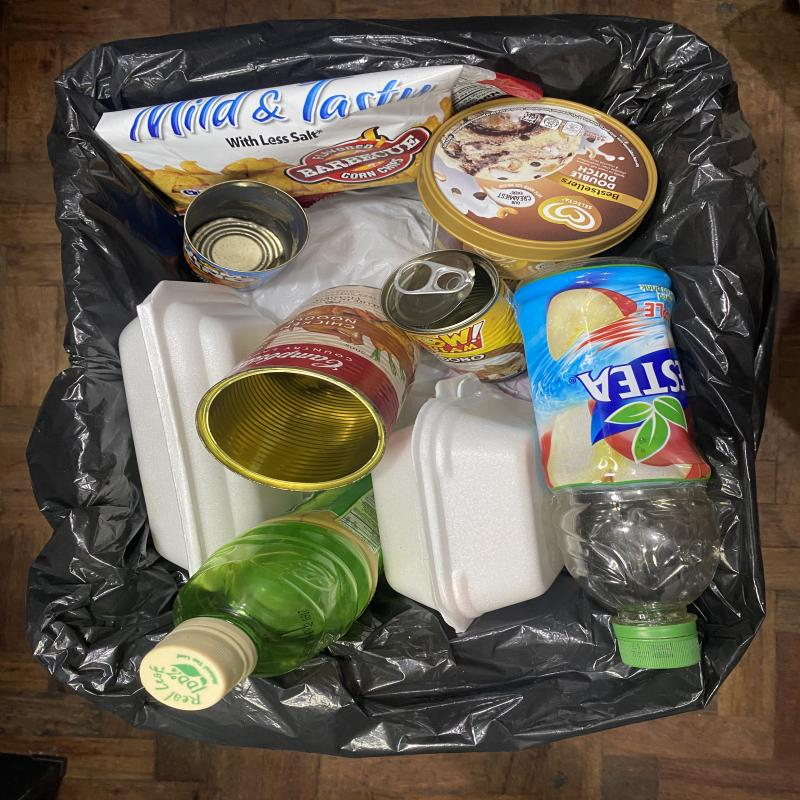aluminum: (196, 286, 422, 492), (381, 250, 532, 381), (183, 180, 308, 291)
food wrapper: (93, 64, 543, 216)
plastic bottle: (515, 257, 720, 669), (140, 473, 384, 710)
plastic container: (417, 96, 659, 290)
styrofoam containers: (119, 280, 316, 578), (369, 373, 565, 633)
